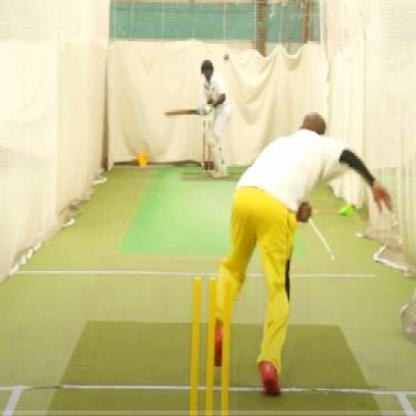ball: (220, 50, 232, 63)
